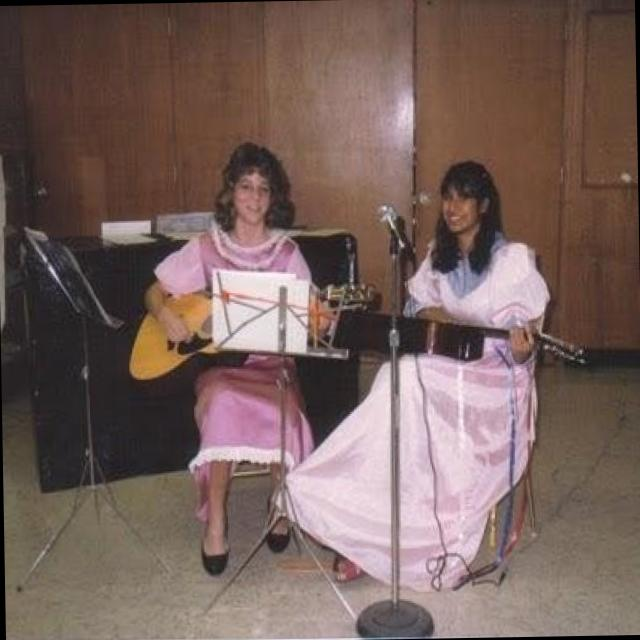guitar: (125, 277, 382, 394), (324, 308, 591, 372)
